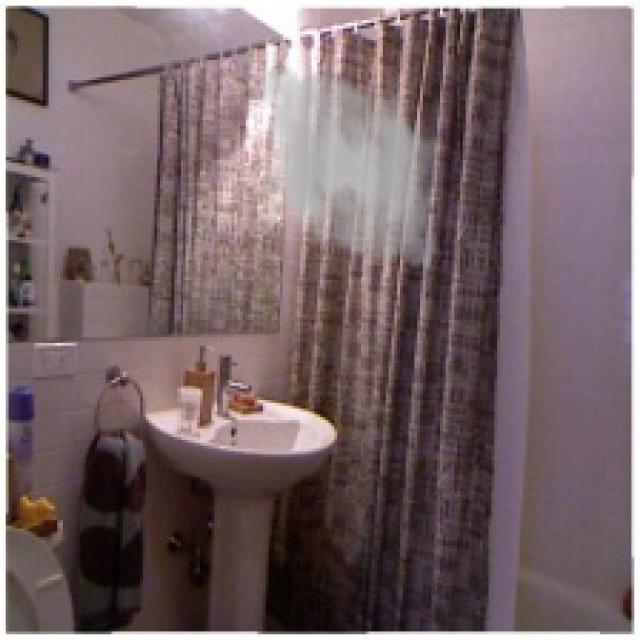smoke: (249, 57, 457, 277)
